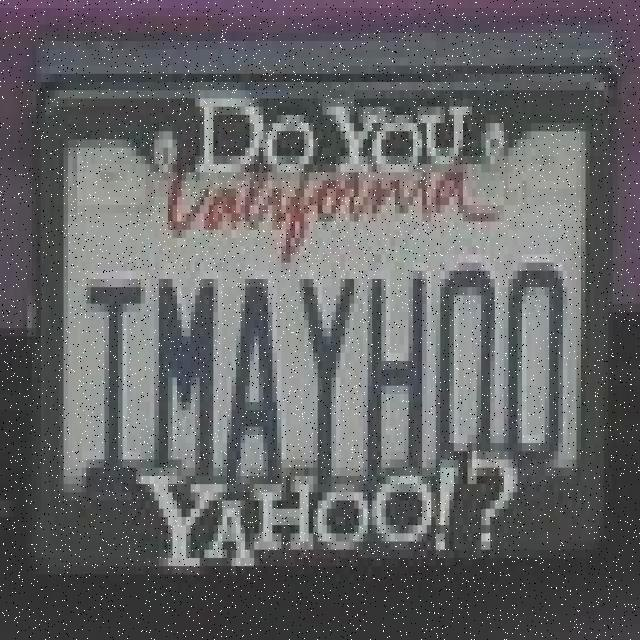licenseplate: (36, 48, 602, 603)
